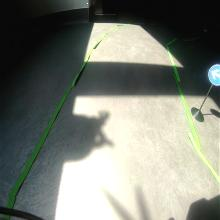left: (207, 63, 220, 87)
